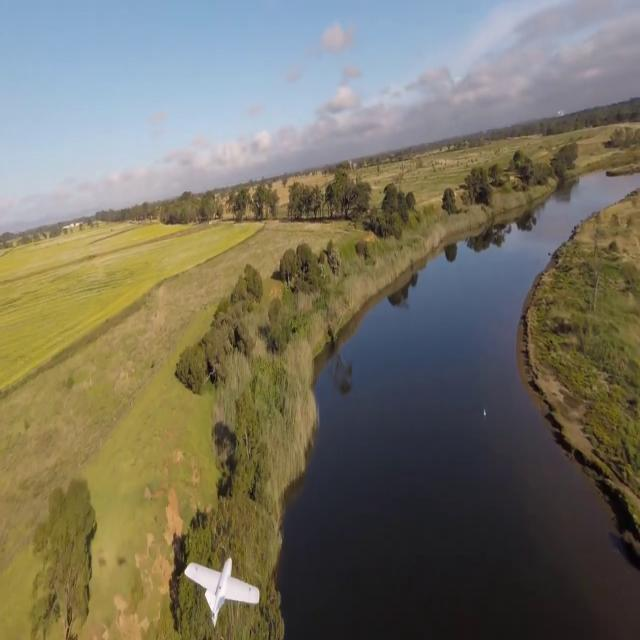iha: (216, 557, 230, 606)
